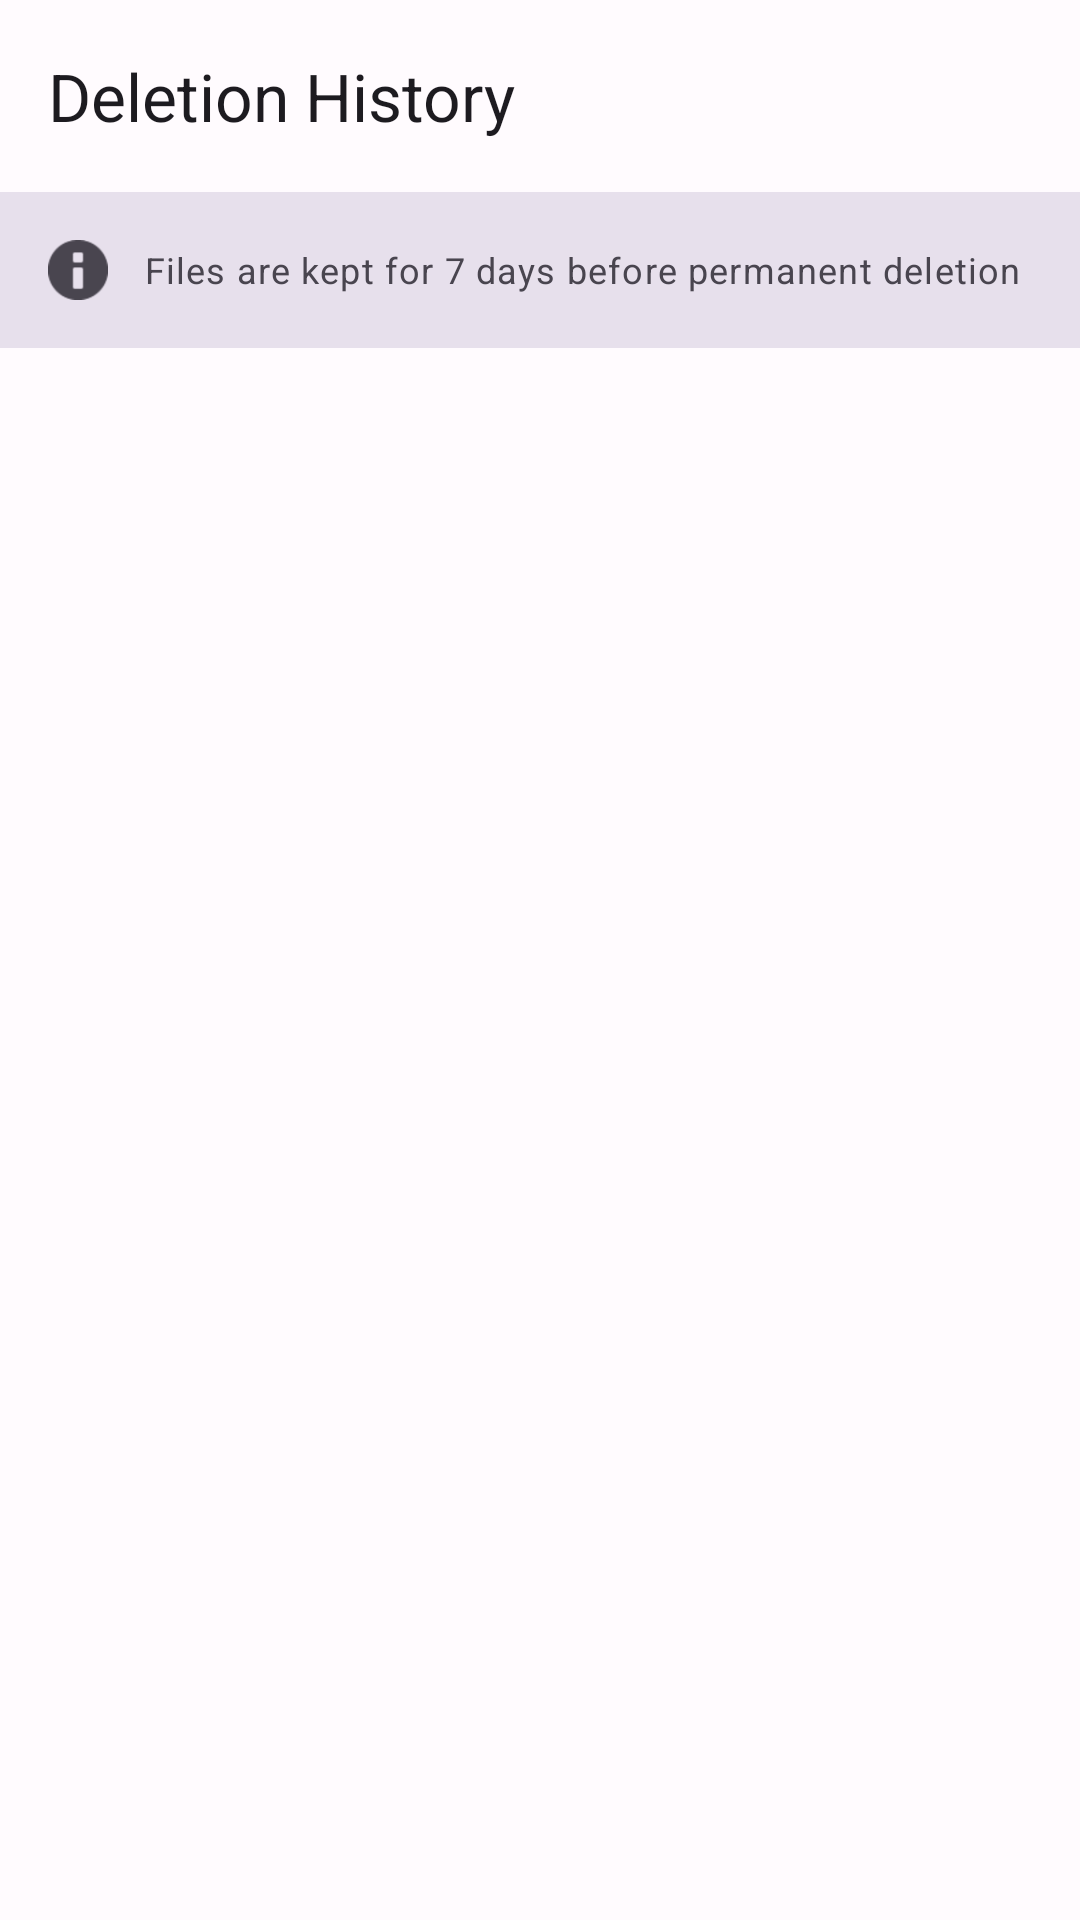

Screen size 1080x1920. Icon name, then its box in pixels as box=[x1, y1, x2, y2]:
info: box=[48, 240, 108, 300]
